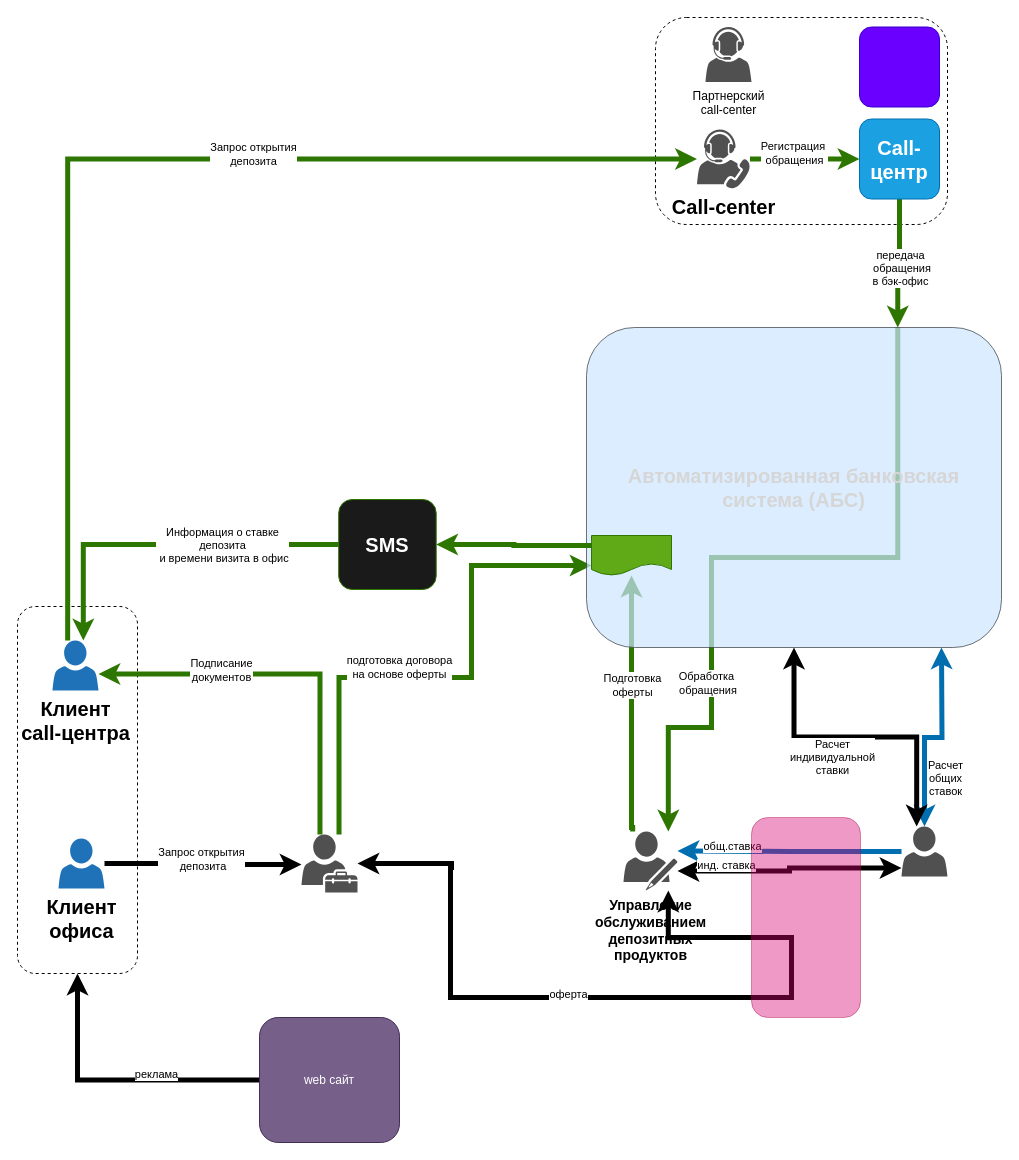
Image size: 1019x1160. Some labels were removed from this diagram. The shapes that lost their labels are listed below. From the top down, each one's centre as x and y in pixels, then its label:
At point 899,66: "Партнерский Call-центр".
At point 631,555: "Оферта для клиента".
At point 329,863: "Управление обслуживанием в сети отделений".
At point 924,851: "Управление обслуживанием кредитных продуктов".
At point 805,917: "email".
